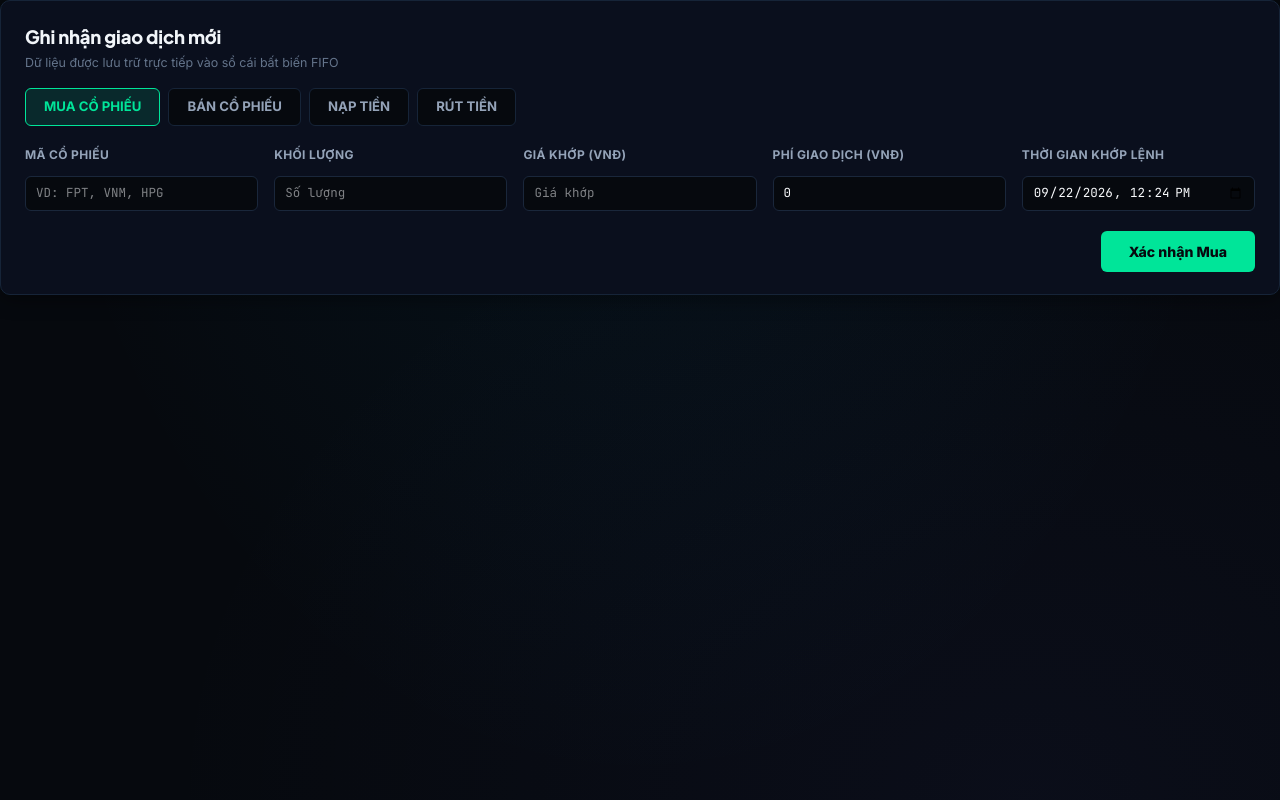
TransactionForm Component › switches tabs between BUY, SELL, DEPOSIT, WITHDRAW
Expected: the text "Mã cổ phiếu" is shown, [25, 147, 109, 162]
What coordinates should you click on to do the following:
click the button "NẠP TIỀN"
I would click on:
 (359, 107)
Its box is [309, 88, 409, 126].
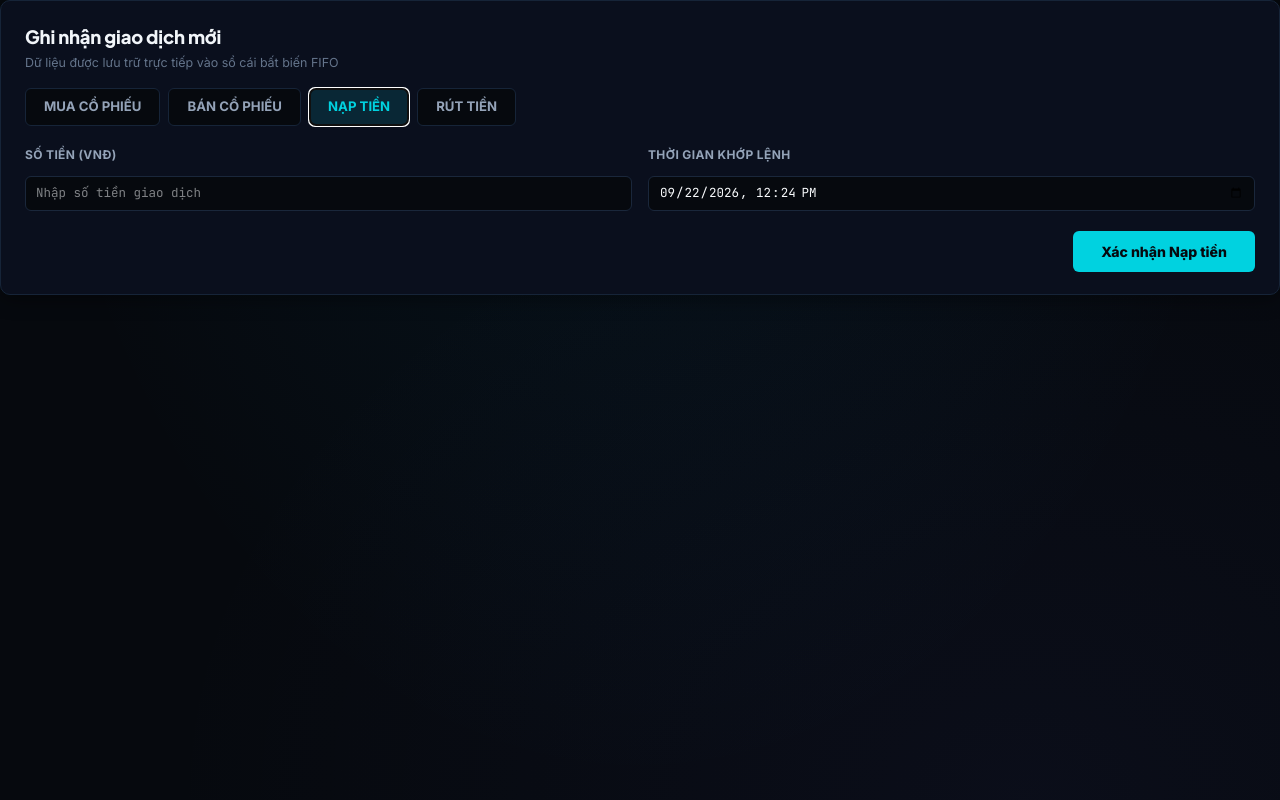
Now the text "Số tiền (VNĐ)" is shown, box [25, 147, 117, 162]
Now the text "Mã cổ phiếu" is gone
